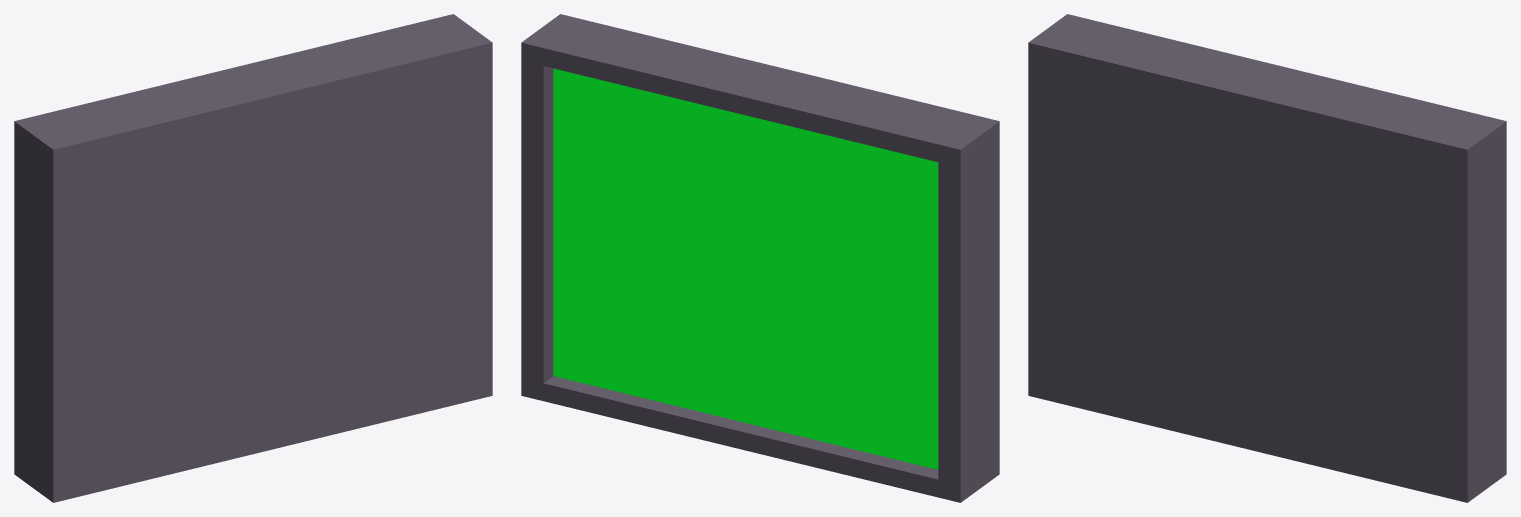
The model's file is OverchargeStation.gltf.
3 renders of one model, left to right at view 1: azimuth 30°, elevation 25°; view 2: azimuth 150°, elevation 25°; view 3: azimuth 330°, elevation 25°, orthographic.
Parts seen in each view (by area): view 1: Cube.006; view 2: Cube.006; view 3: Cube.006.
Boxes of the visible parts, <box> form: Cube.006: <box>14,14,492,502</box>; Cube.006: <box>521,14,999,502</box>; Cube.006: <box>1028,14,1506,502</box>.
Bounding box in the file's own units: 1.37 × 1.05 × 0.211.
